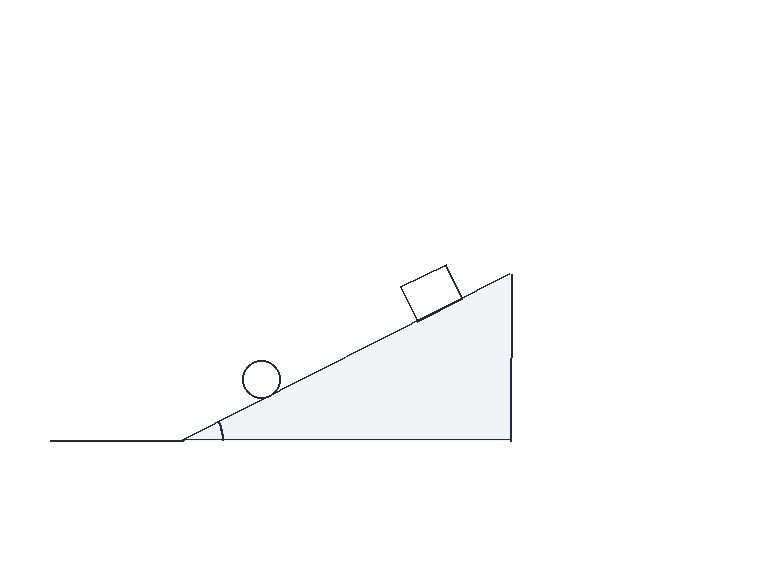ball: (240, 358, 282, 400)
block: (398, 262, 465, 323)
ramp: (181, 271, 512, 442)
